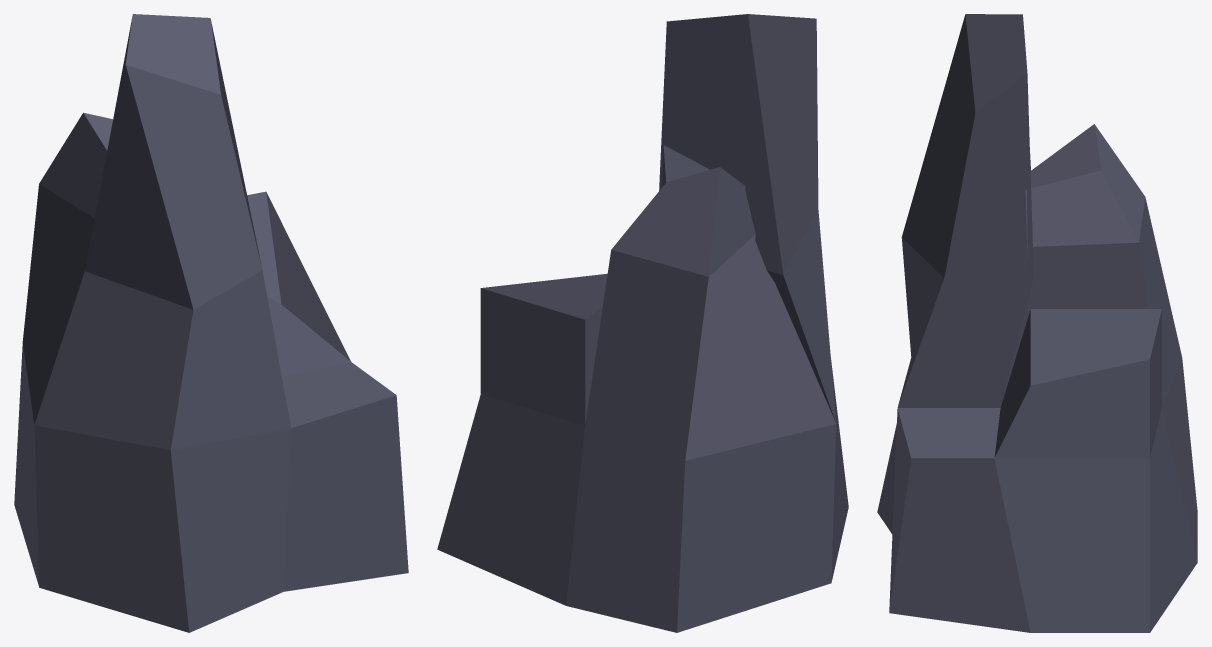
Rendered from Rock5.fbx.
The picture shows the model from 3 angles, left to right: view 1: azimuth 30°, elevation 25°; view 2: azimuth 150°, elevation 25°; view 3: azimuth 270°, elevation 25°; orthographic projection. The views are drawn at different scales.
Parts seen in each view (by area): view 1: Cube.385; view 2: Cube.385; view 3: Cube.385.
Part boxes in pixels (<box>): Cube.385: <box>14,14,408,632</box>; Cube.385: <box>437,14,848,632</box>; Cube.385: <box>877,14,1197,632</box>.
Size of the model in its own units: 3080 by 4785 by 2735.
